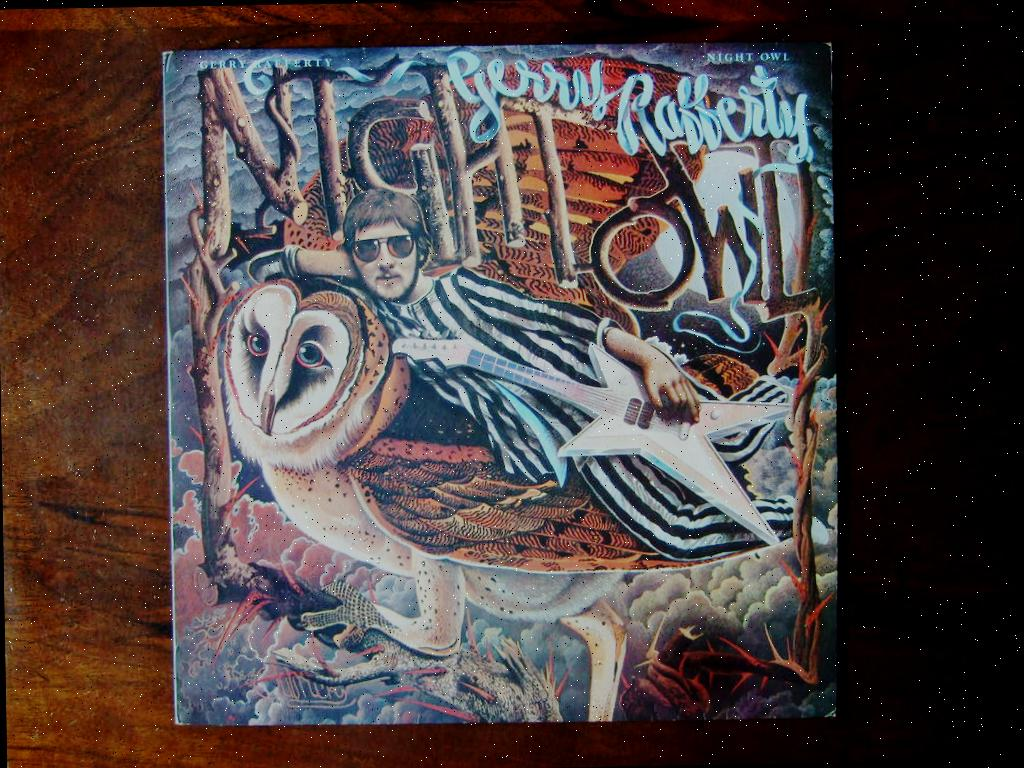Owl: (218, 265, 772, 748)
